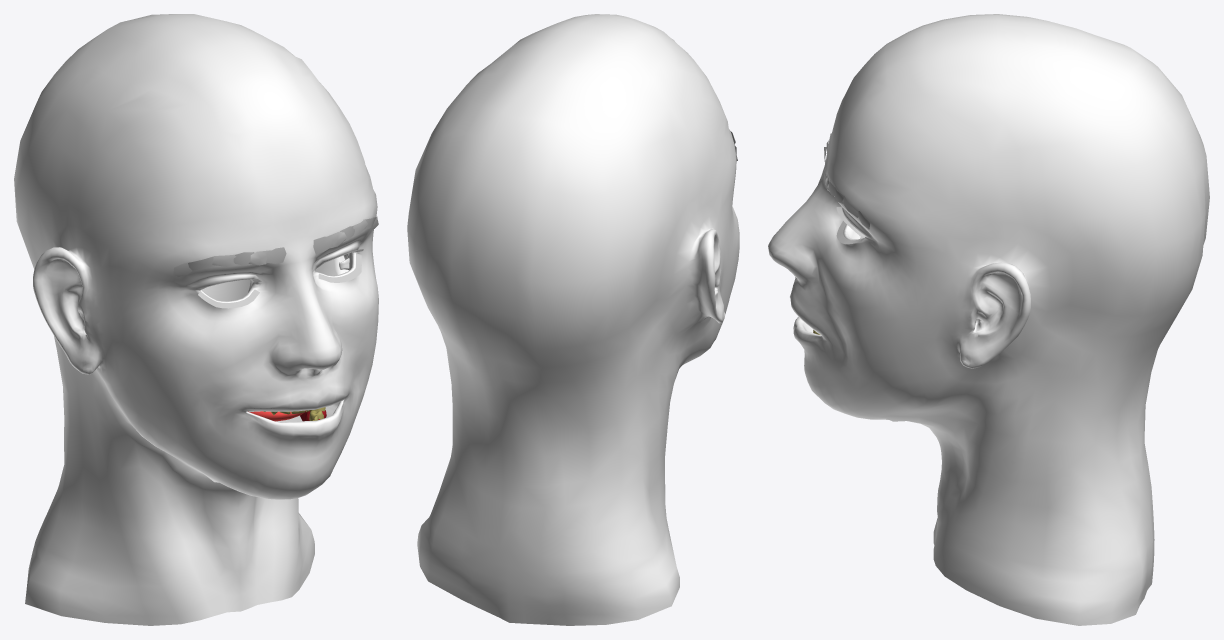
3 renders of one model, left to right at view 1: azimuth 30°, elevation 25°; view 2: azimuth 150°, elevation 25°; view 3: azimuth 270°, elevation 25°, orthographic. The views are drawn at different scales.
Parts seen in each view (by area): view 1: FaceMesh_Plane.003; view 2: FaceMesh_Plane.003; view 3: FaceMesh_Plane.003.
Part boxes in pixels (x1,y1,x2,y2): FaceMesh_Plane.003: [14, 14, 378, 625]; FaceMesh_Plane.003: [407, 14, 739, 625]; FaceMesh_Plane.003: [768, 14, 1209, 625].
Bounding box in the file's own units: 1.54 × 2.71 × 1.94.
Materials: 5 (1 with a texture image).
